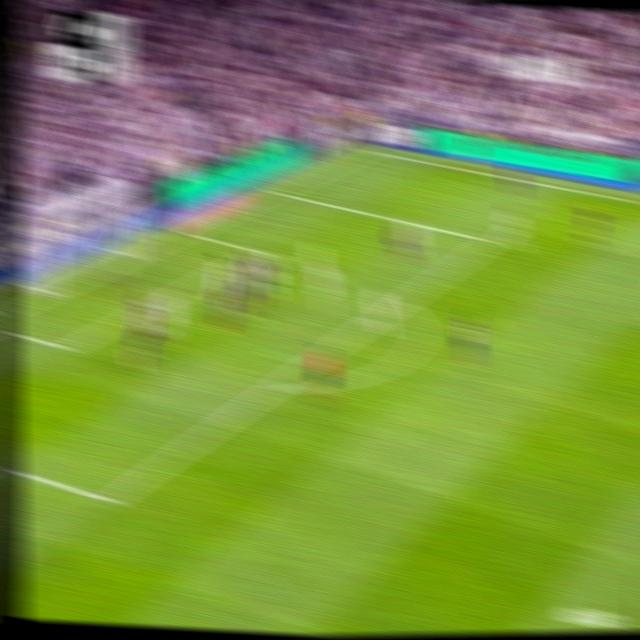bigarea_bottom_inner: (97, 482, 122, 517)
bigarea_top_inner: (481, 229, 500, 251)
bigarea_top_outter: (268, 181, 288, 200)
bottom_arc_area_intersection: (262, 372, 287, 401)
corner: (357, 143, 378, 157)
smallarea_bottom_inner: (56, 333, 79, 361)
top_arc_area_intersection: (394, 288, 414, 309)
